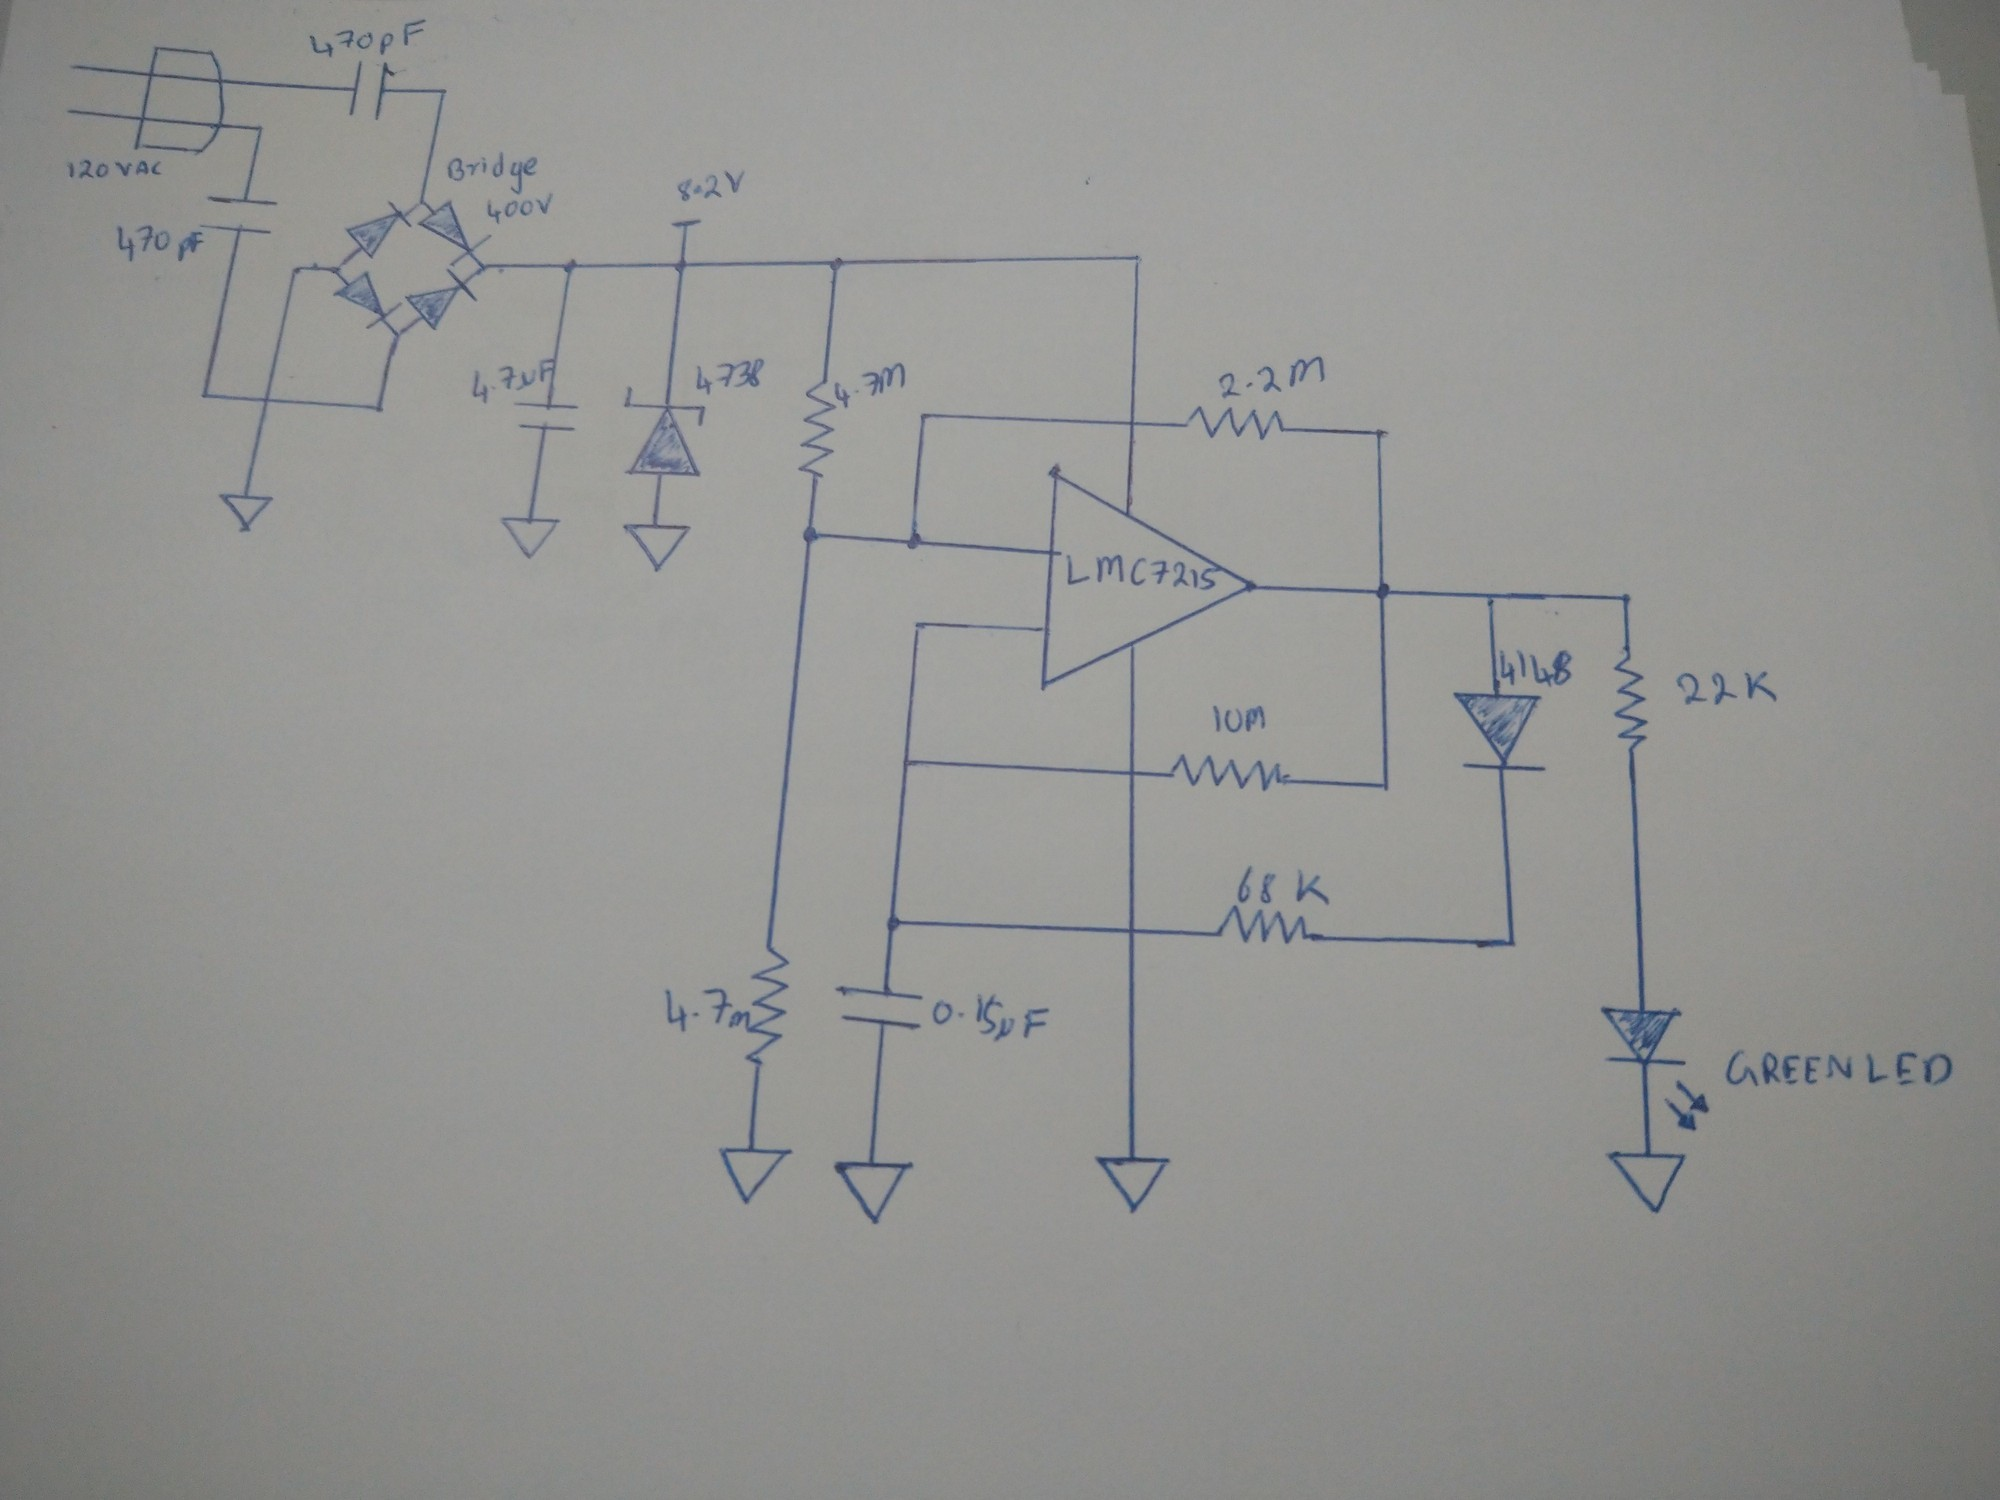capacitor.unpolarized: (831, 982, 926, 1035), (198, 191, 276, 239), (343, 58, 391, 123), (510, 399, 583, 436)
crossover: (254, 392, 277, 410), (1120, 414, 1143, 432), (1123, 923, 1142, 942), (1121, 766, 1142, 783)
diode: (617, 383, 709, 482), (1450, 690, 1550, 777), (414, 197, 493, 266), (405, 266, 480, 332), (343, 197, 413, 263), (331, 269, 403, 329)
diode.light_emitting: (1598, 1004, 1713, 1134)
gnd: (828, 1160, 917, 1227), (713, 1142, 794, 1209), (1088, 1153, 1173, 1213), (1606, 1150, 1685, 1215), (620, 520, 694, 575), (496, 514, 561, 562), (214, 488, 277, 537)
junction: (554, 255, 583, 284), (824, 251, 850, 277), (798, 523, 825, 548), (902, 528, 928, 555), (671, 255, 693, 279), (915, 410, 942, 429), (194, 386, 217, 407), (1373, 581, 1392, 603), (883, 912, 902, 934), (287, 260, 306, 280), (1126, 251, 1146, 269), (474, 257, 491, 276), (1370, 425, 1389, 443), (1614, 589, 1633, 607), (1480, 589, 1498, 607), (909, 618, 926, 635), (1376, 775, 1392, 794), (898, 755, 913, 774), (1504, 934, 1520, 952), (372, 402, 387, 418), (328, 262, 343, 277), (436, 85, 450, 99), (416, 195, 428, 210), (254, 123, 268, 136), (392, 328, 405, 340)
operational_amplifier: (1038, 466, 1261, 692)
resistor: (743, 941, 794, 1067), (1172, 752, 1290, 797), (794, 377, 838, 481), (1181, 407, 1288, 447), (1217, 903, 1312, 949), (1609, 655, 1652, 752)
socket: (129, 43, 228, 158)
terminal: (668, 214, 704, 235), (61, 104, 79, 120), (65, 60, 82, 74)
text: (1721, 1046, 1954, 1092), (929, 993, 1054, 1046), (1061, 551, 1220, 592), (307, 14, 428, 61), (1220, 351, 1331, 402), (661, 983, 753, 1037), (441, 148, 540, 195), (1672, 666, 1783, 707), (469, 355, 554, 407), (1236, 863, 1334, 908), (835, 358, 910, 411), (110, 222, 203, 265), (1498, 644, 1578, 690), (693, 355, 767, 399), (61, 154, 164, 186), (674, 165, 746, 206), (483, 191, 554, 228), (1211, 703, 1269, 736)
